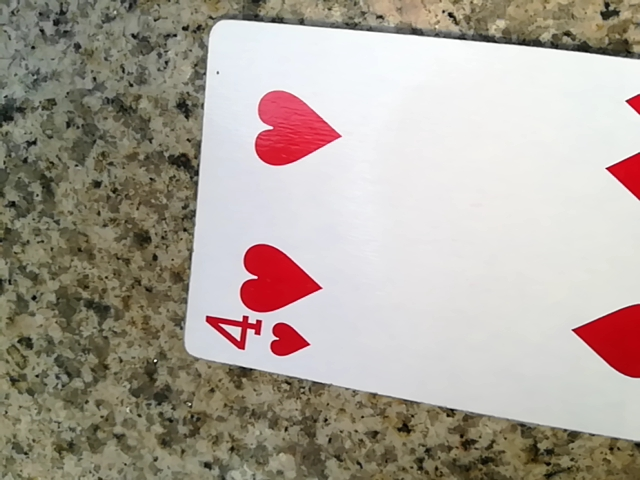hx 4: (164, 14, 635, 460)
